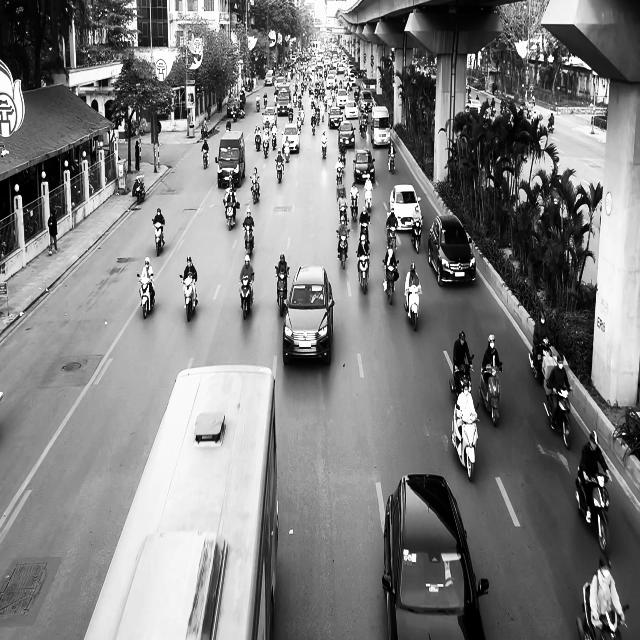bus: (83, 363, 279, 639)
car: (382, 473, 489, 639), (282, 265, 334, 366), (428, 214, 476, 286), (216, 130, 246, 188), (389, 183, 422, 230), (353, 148, 375, 183)
motorbike: (574, 470, 612, 552), (576, 582, 628, 639), (451, 401, 479, 481), (542, 381, 572, 449), (479, 362, 502, 426), (449, 354, 474, 402), (179, 273, 198, 322), (136, 272, 156, 318), (382, 259, 399, 305), (404, 286, 420, 331), (275, 266, 289, 316), (239, 276, 254, 320), (356, 249, 370, 294), (336, 227, 350, 269), (223, 198, 238, 230), (152, 219, 164, 256), (410, 218, 422, 253), (242, 225, 255, 256), (387, 224, 398, 250), (250, 176, 260, 203), (275, 156, 284, 182), (388, 149, 396, 174), (202, 148, 209, 170)
